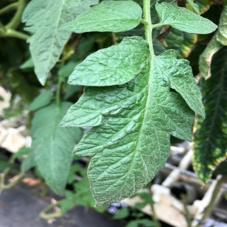Healthy: (56, 48, 207, 212), (20, 0, 90, 86), (66, 35, 151, 87), (61, 0, 143, 34), (155, 0, 218, 36)
